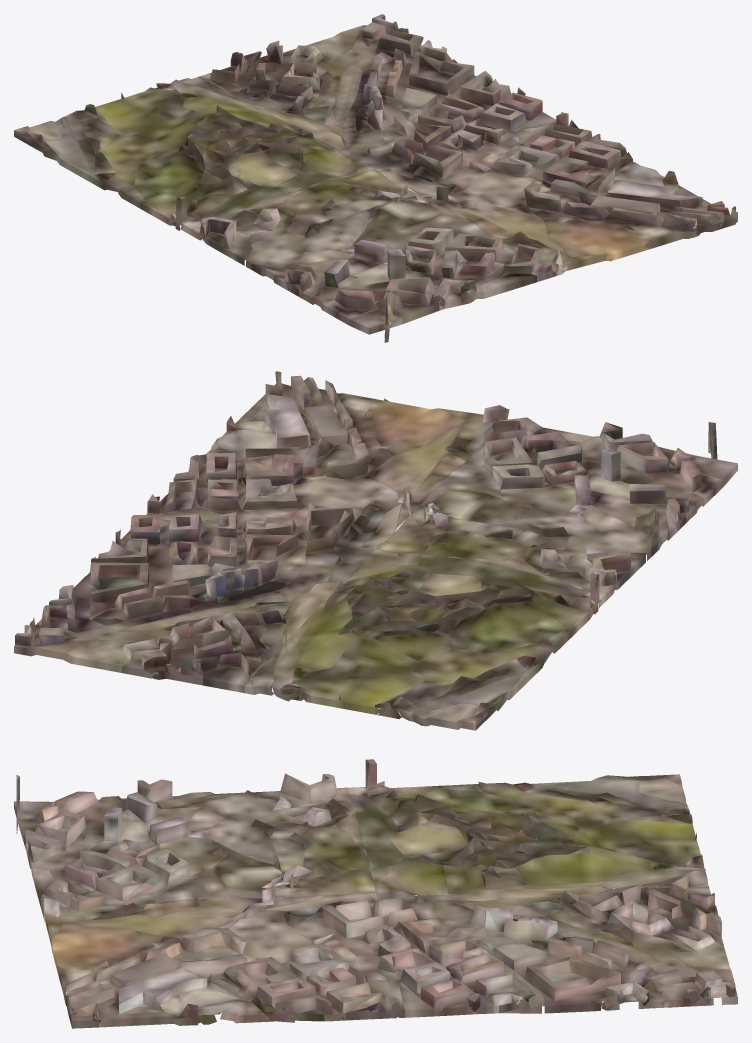
3 views of the same model, one above another, from view 1: azimuth 30°, elevation 25°; view 2: azimuth 150°, elevation 25°; view 3: azimuth 270°, elevation 25° (orthographic). The views are drawn at different scales.
Visible parts, largest first — view 1: Mesh_0; view 2: Mesh_0; view 3: Mesh_0.
Part boxes in pixels (x1=…): Mesh_0: x1=14, y1=14, x2=737, y2=342; Mesh_0: x1=14, y1=371, x2=737, y2=730; Mesh_0: x1=14, y1=759, x2=737, y2=1028.
Size of the model in its own units: 1070 by 119 by 1318.
2 materials, 2 textured.
